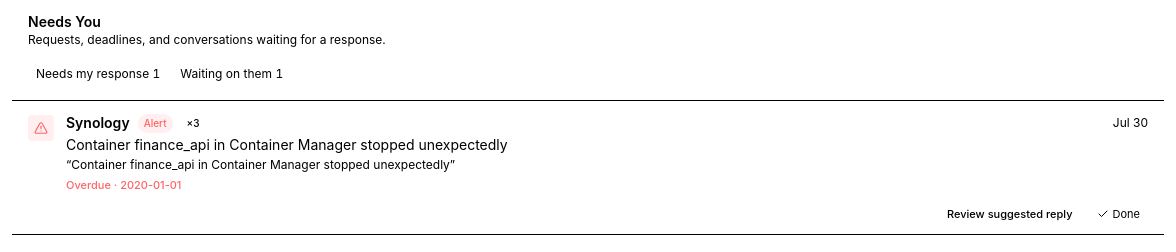
Test: NeedsYouList › separates waiting conversations and shows explicit deadlines and ready replies
Expected: the text "Overdue · 2020-01-01" is shown, left=66, top=178, right=181, bottom=192
Expected: the button "Review suggested reply" is shown, left=939, top=202, right=1080, bottom=226
Click the tab "Waiting on them 1" at (232, 74), box left=172, top=60, right=291, bottom=88
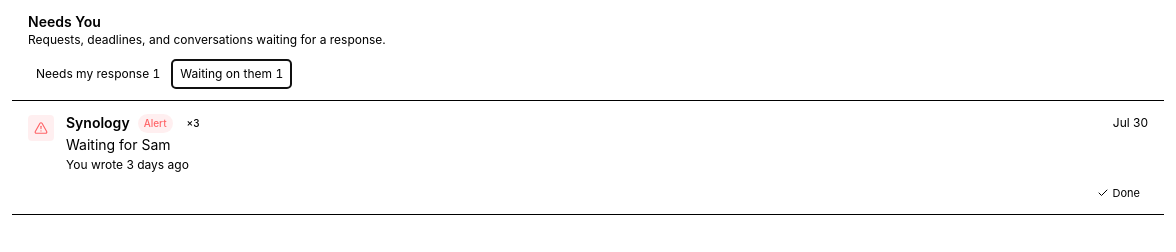
Expected: the text "You wrote 3 days ago" is shown, left=66, top=157, right=189, bottom=172
Expected: the button "Overdue · 2020-01-01" is gone
